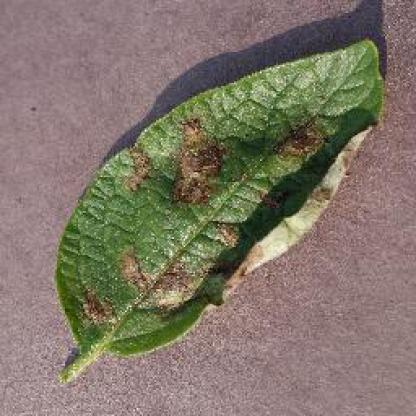bad leaf: (83, 108, 352, 352)
